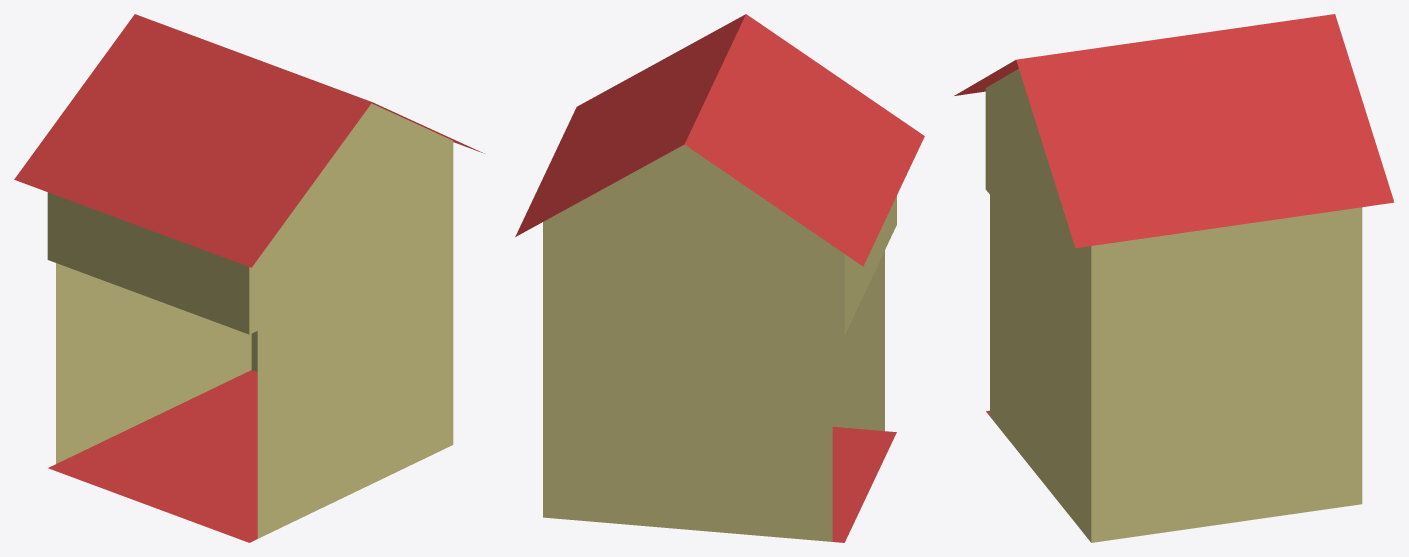
3 views of the same model, side by side, from view 1: azimuth 30°, elevation 25°; view 2: azimuth 150°, elevation 25°; view 3: azimuth 270°, elevation 25° (orthographic). The views are drawn at different scales.
Parts seen in each view (by area): view 1: group_5, group_3, group_6; view 2: group_5, group_3, group_6, group_4; view 3: group_5, group_3, group_4.
Part boxes in pixels (bbox=[...]): group_5: bbox=[47, 103, 453, 538]; group_3: bbox=[14, 14, 482, 267]; group_6: bbox=[48, 370, 257, 542]; group_5: bbox=[543, 144, 896, 541]; group_3: bbox=[515, 14, 924, 266]; group_6: bbox=[832, 427, 896, 542]; group_4: bbox=[577, 14, 770, 148]; group_5: bbox=[985, 69, 1362, 542]; group_3: bbox=[1016, 14, 1394, 248]; group_4: bbox=[954, 14, 1334, 247].
Size of the model in its own units: 13.82 by 13.02 by 13.78.
